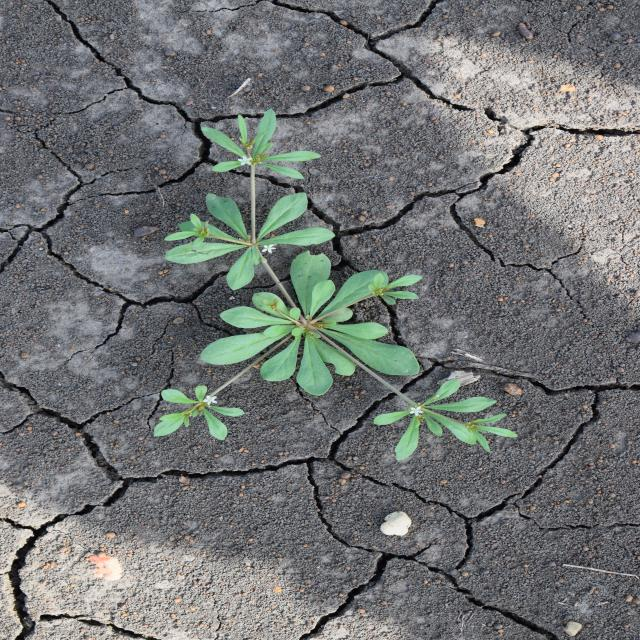Carpetweed: (152, 107, 523, 462)
